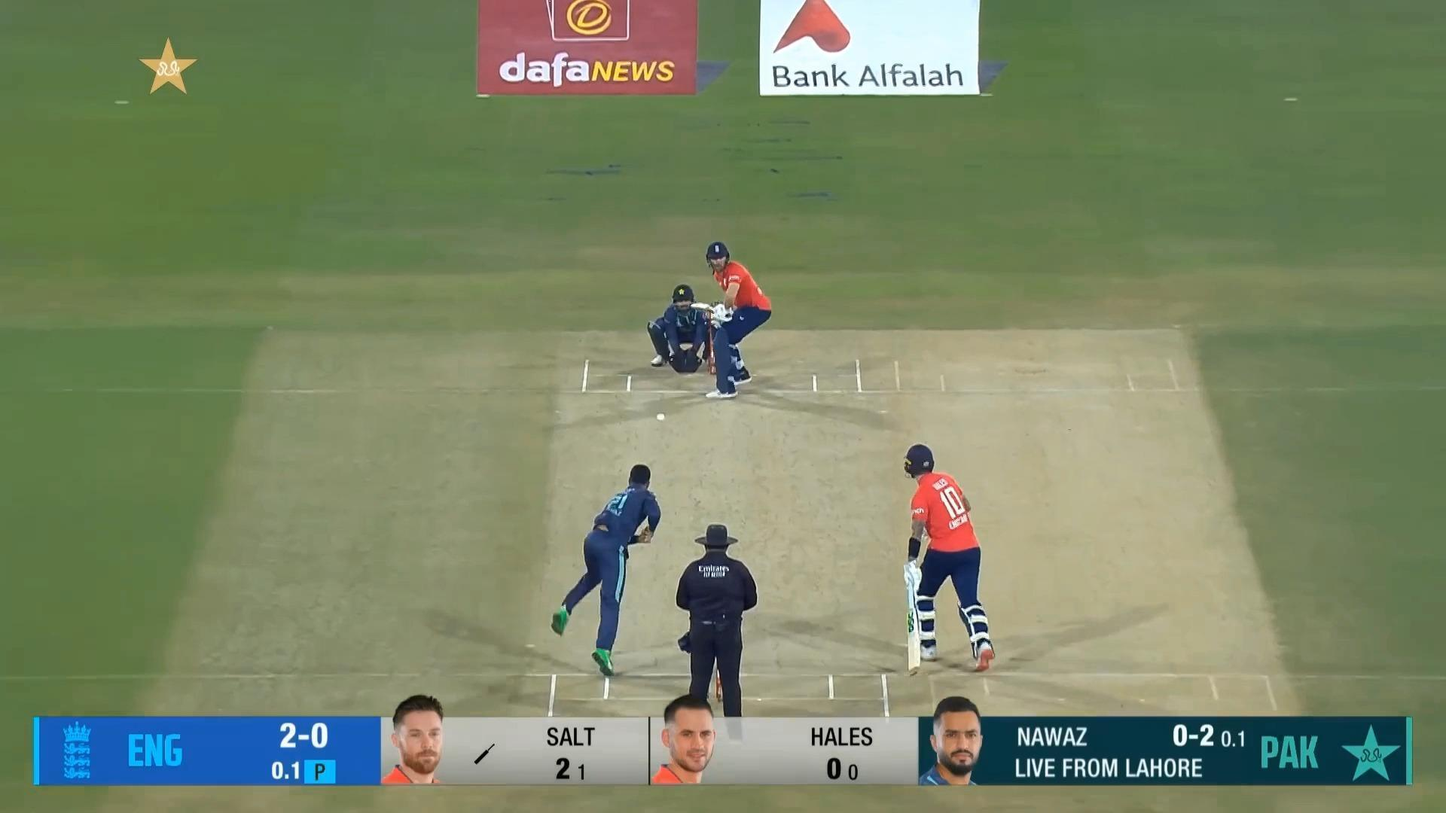BM 1: (689, 241, 773, 399)
BO: (548, 462, 662, 676)
